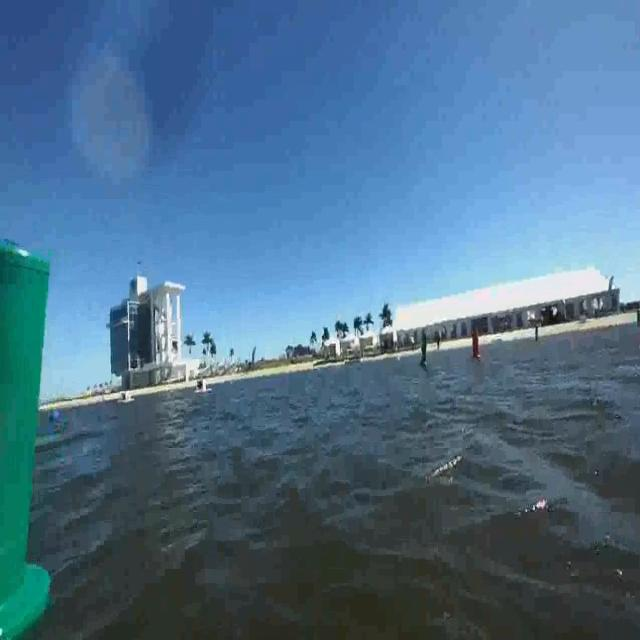green-column-buoy: (0, 232, 68, 640), (418, 330, 430, 368)
red-column-buoy: (472, 328, 484, 362)
